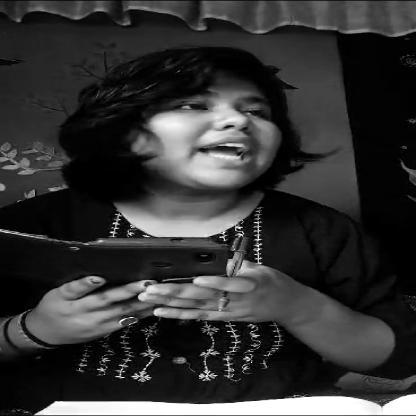Distracted: (117, 66, 296, 193)
